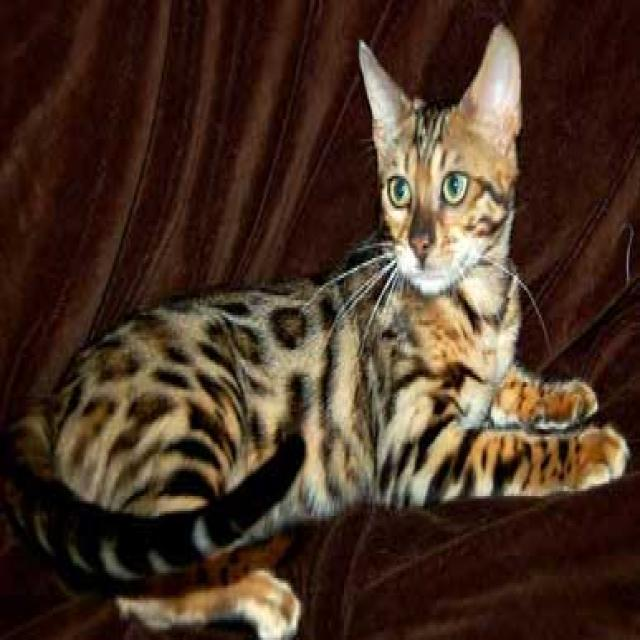Bengal: (356, 20, 519, 290)
